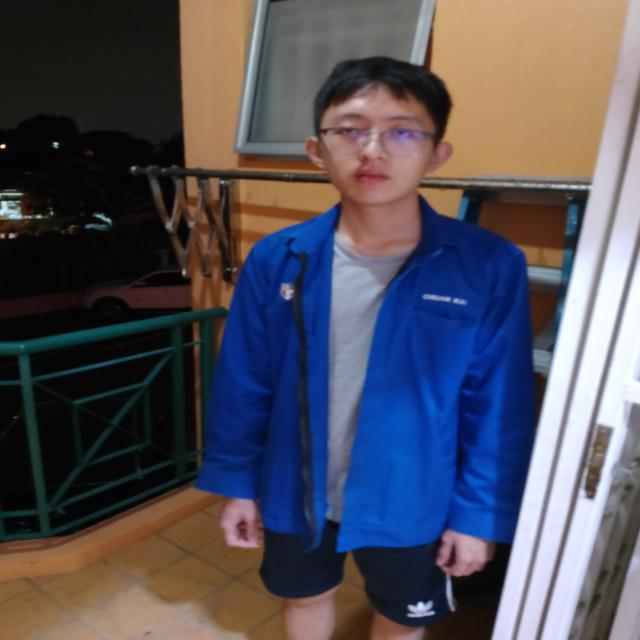person_with_labcoat: (196, 58, 534, 640)
